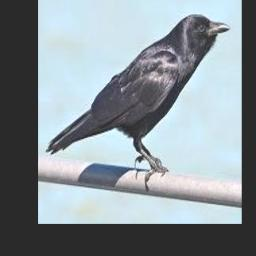Crow: (45, 14, 231, 180)
